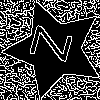Z: (29, 24, 83, 66)
